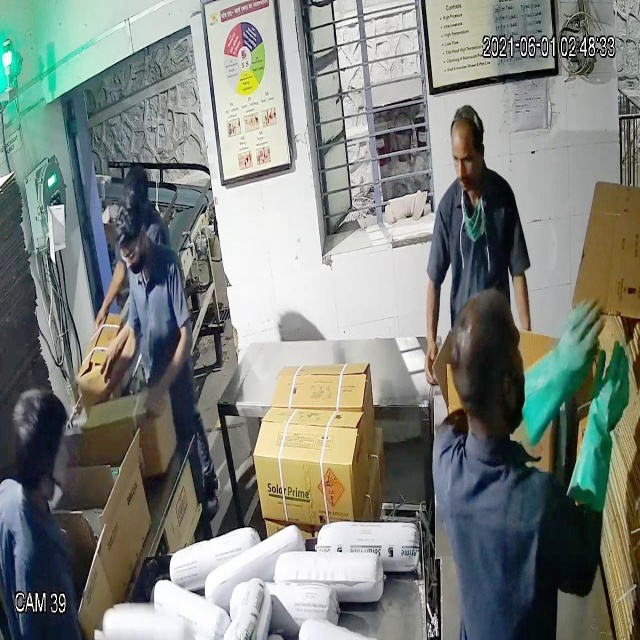Gafas: (113, 230, 147, 268)
Sin_gafas: (446, 142, 491, 177)
